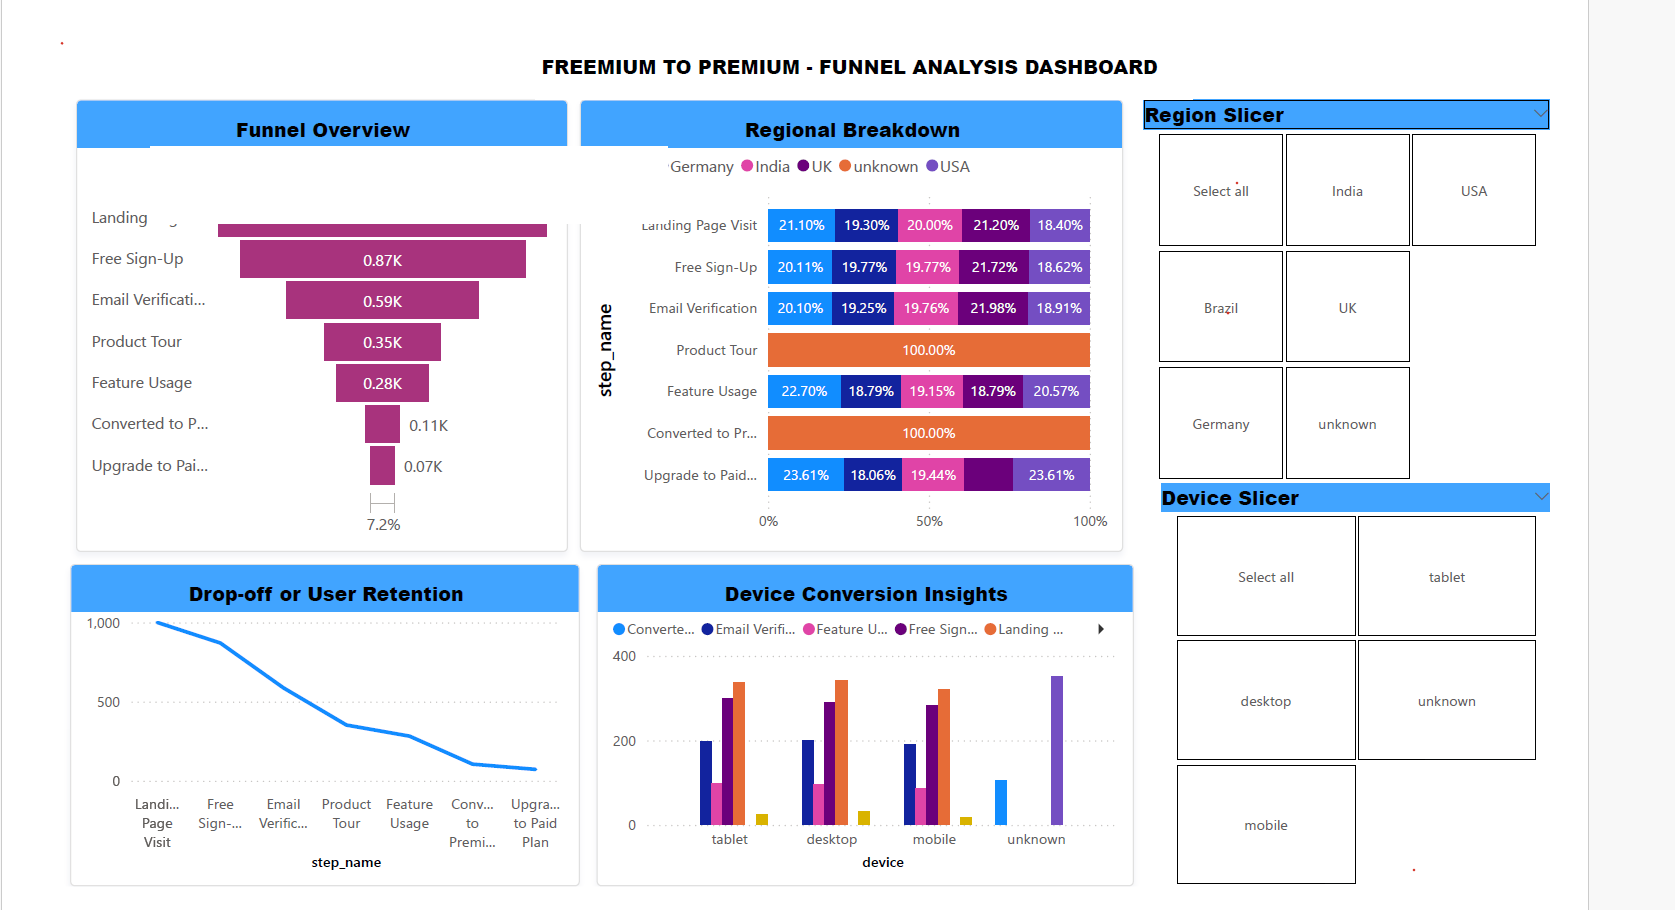

The dashboard page shown, as its layout file describes it:
{"tool":"powerbi","page":{"name":"Page 1","canvas":[1280,720],"ordinal":0},"visuals":[{"type":"funnel","title":"Funnel Overview","fields":{"Category":["extended_funnel.step_name","extended_funnel.user_id"],"Y":["CountNonNull(extended_funnel.user_id)"]},"box":[37.5,61.2,412.5,378.8],"z":0},{"type":"lineChart","title":"Drop-off or User Retention","fields":{"Category":["extended_funnel.step_name"],"Y":["CountNonNull(extended_funnel.user_id)"]},"box":[32.5,450,427.5,270],"z":1000},{"type":"hundredPercentStackedBarChart","title":"Regional Breakdown","fields":{"Category":["extended_funnel.step_name"],"Y":["CountNonNull(extended_funnel.user_id)"],"Series":["extended_funnel.region"]},"box":[460,61.2,455,378.8],"z":2000},{"type":"clusteredColumnChart","title":"Device Conversion Insights","fields":{"Category":["extended_funnel.device"],"Y":["CountNonNull(extended_funnel.user_id)"],"Series":["extended_funnel.step_name"]},"box":[473.8,450,450,270],"z":2001},{"type":"slicer","fields":{"Values":["extended_funnel.region"]},"box":[938.8,61.2,341.2,321.2],"z":2002},{"type":"slicer","fields":{"Values":["extended_funnel.device"]},"box":[938.8,382.5,341.2,337.5],"z":2003},{"type":"textbox","box":[422.5,0,550,61.2],"z":2004},{"type":"textbox","box":[100,100,432.5,65],"z":2005}]}

Visuals, with their boxes on the page's 1280x720 design canvas (x1, y1, x2, y2). These are canvas units, not pixel positions in the 1675x910 screenshot, which may show the page scaled, cropped or inside an application window:
"Funnel Overview" funnel: (x1=38, y1=61, x2=450, y2=440)
"Drop-off or User Retention" lineChart: (x1=32, y1=450, x2=460, y2=720)
"Regional Breakdown" hundredPercentStackedBarChart: (x1=460, y1=61, x2=915, y2=440)
"Device Conversion Insights" clusteredColumnChart: (x1=474, y1=450, x2=924, y2=720)
slicer - extended_funnel.region: (x1=939, y1=61, x2=1280, y2=382)
slicer - extended_funnel.device: (x1=939, y1=382, x2=1280, y2=720)
textbox: (x1=422, y1=0, x2=972, y2=61)
textbox: (x1=100, y1=100, x2=532, y2=165)
